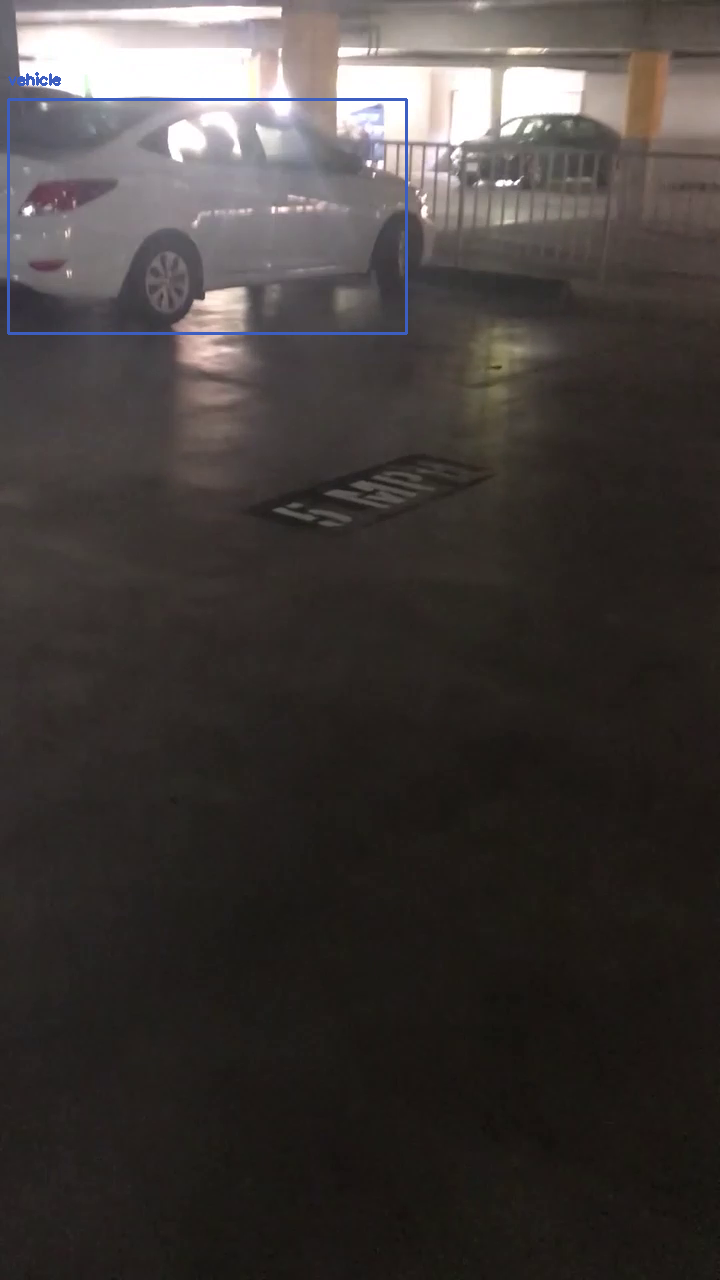vehicle: (8, 99, 406, 333)
